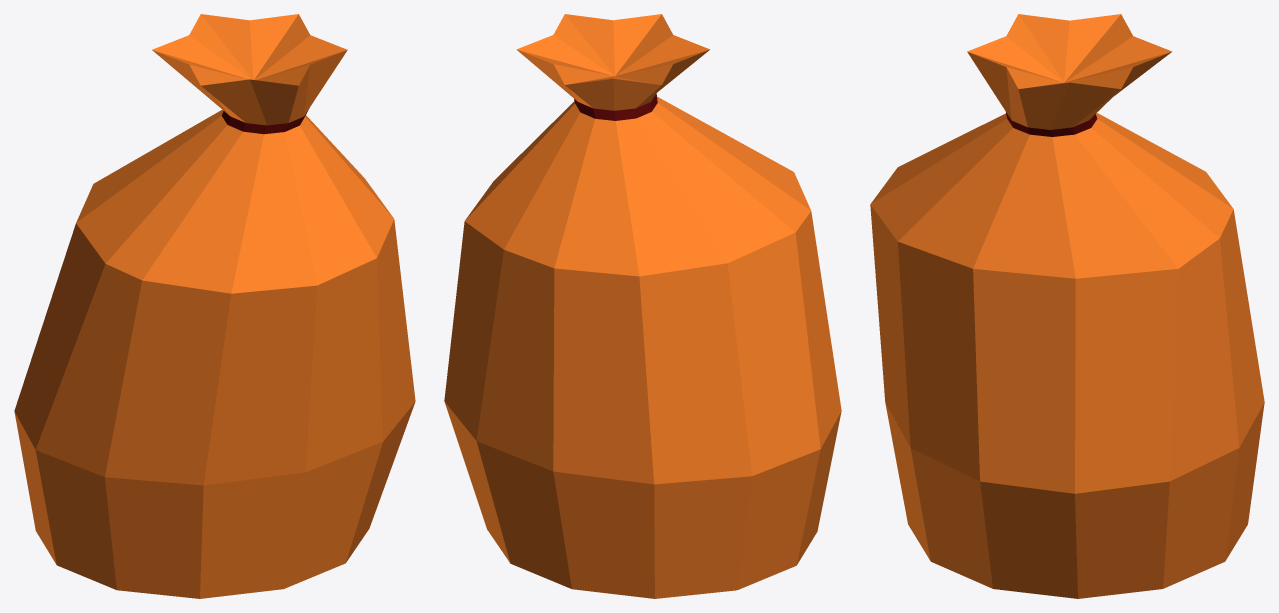
Rendered from bagCoins.FBX.
3 views of the same model, side by side, from view 1: azimuth 30°, elevation 25°; view 2: azimuth 150°, elevation 25°; view 3: azimuth 270°, elevation 25° (orthographic). The views are drawn at different scales.
Visible parts, largest first — view 1: Sphere001; view 2: Sphere001; view 3: Sphere001.
Part boxes in pixels (x1,y1,x2,y2): Sphere001: [14, 14, 415, 598]; Sphere001: [444, 14, 841, 598]; Sphere001: [870, 14, 1264, 598].
Bounding box in the file's own units: 0.4225 × 0.532 × 0.3838.
